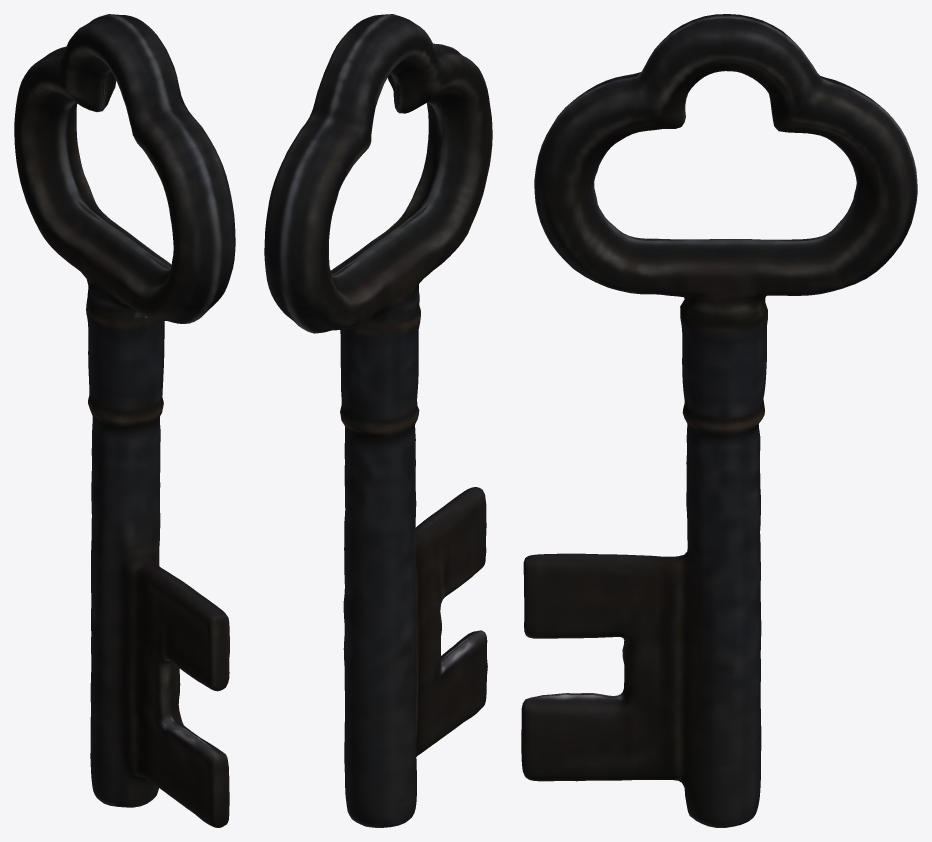
The model's file is bb6b307a3853_key_for_an_old_door.obj.
The picture shows the model from 3 angles, left to right: view 1: azimuth 30°, elevation 25°; view 2: azimuth 150°, elevation 25°; view 3: azimuth 270°, elevation 25°; orthographic projection. The views are drawn at different scales.
Visible parts, largest first — view 1: mesh; view 2: mesh; view 3: mesh.
Part boxes in pixels (x1=…): mesh: x1=14, y1=14, x2=235, y2=827; mesh: x1=264, y1=14, x2=492, y2=827; mesh: x1=521, y1=14, x2=917, y2=827.
Size of the model in its own units: 0.0942 by 0.9988 by 0.4487.
1 material, 1 textured.
